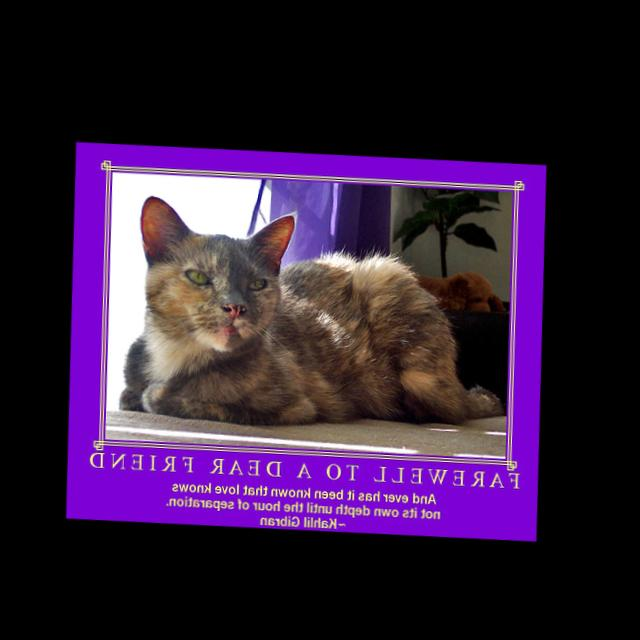animals: (149, 192, 296, 316)
